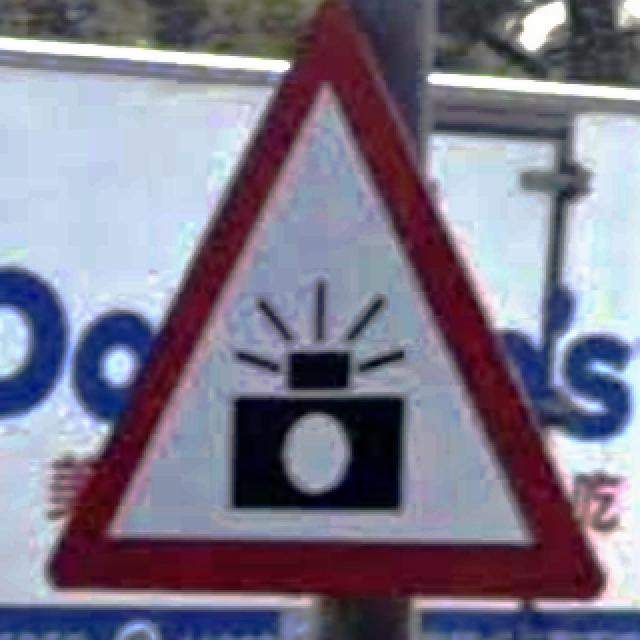speedcamera: (48, 0, 606, 600)
